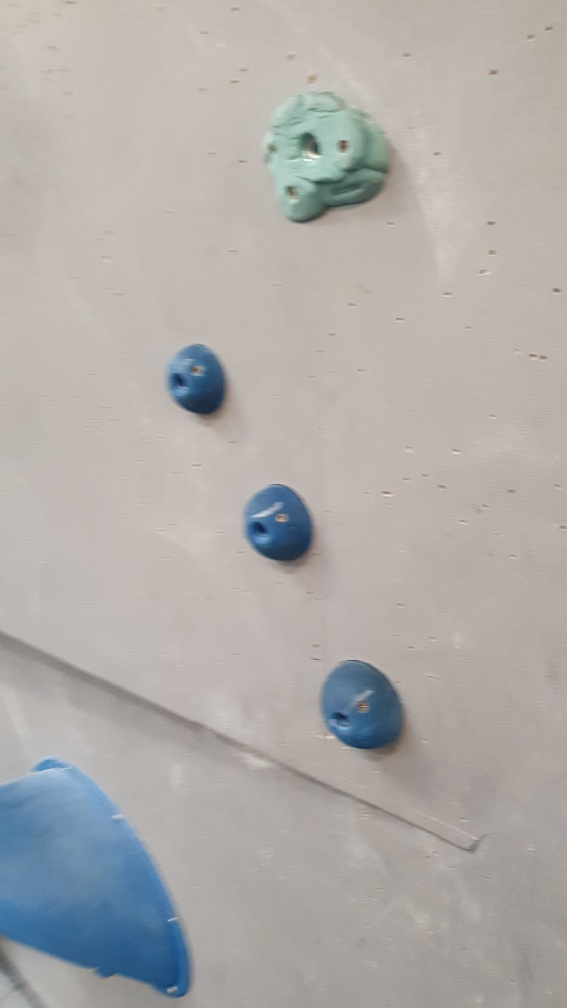Sloper: (317, 654, 408, 752), (239, 477, 315, 568), (162, 341, 229, 420)
